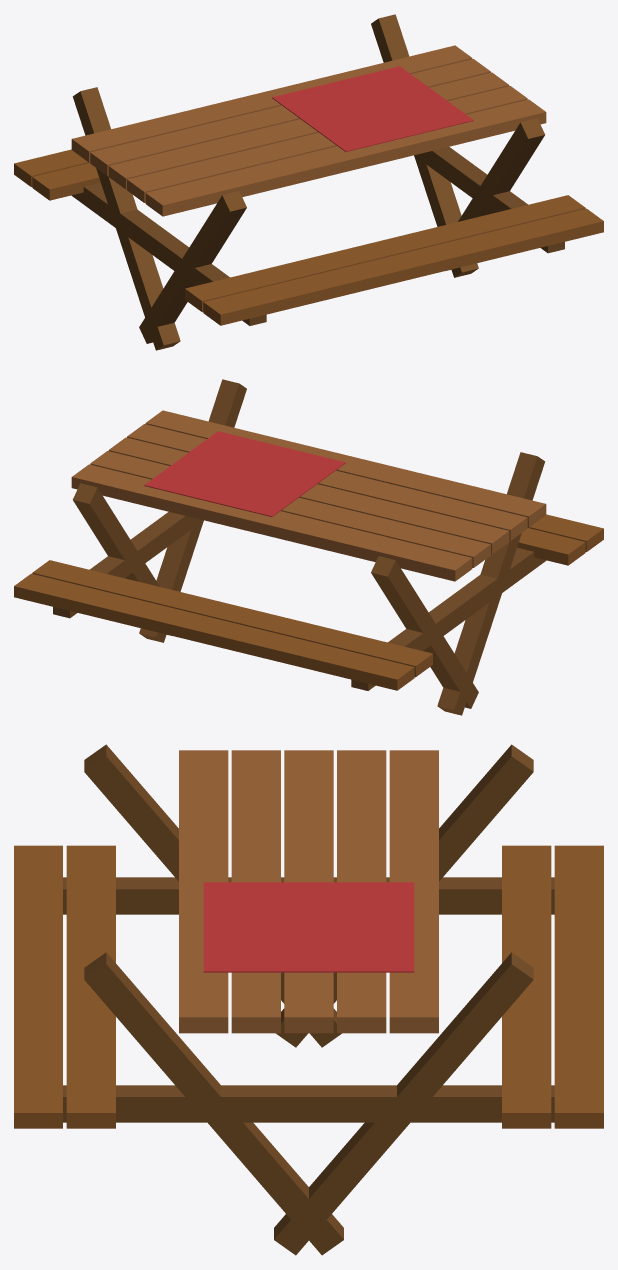
The model's file is picnic_table.glb.
3 views of the same model, one above another, from view 1: azimuth 30°, elevation 25°; view 2: azimuth 150°, elevation 25°; view 3: azimuth 270°, elevation 25° (orthographic). The views are drawn at different scales.
Visible parts, largest first — view 1: main; view 2: main; view 3: main.
Boxes of the visible parts, box(x1,y1,x2,y2) form: main: box(14, 14, 603, 350); main: box(14, 379, 603, 715); main: box(14, 744, 603, 1255).
Size of the model in its own units: 1.8 by 0.9161 by 1.68.
